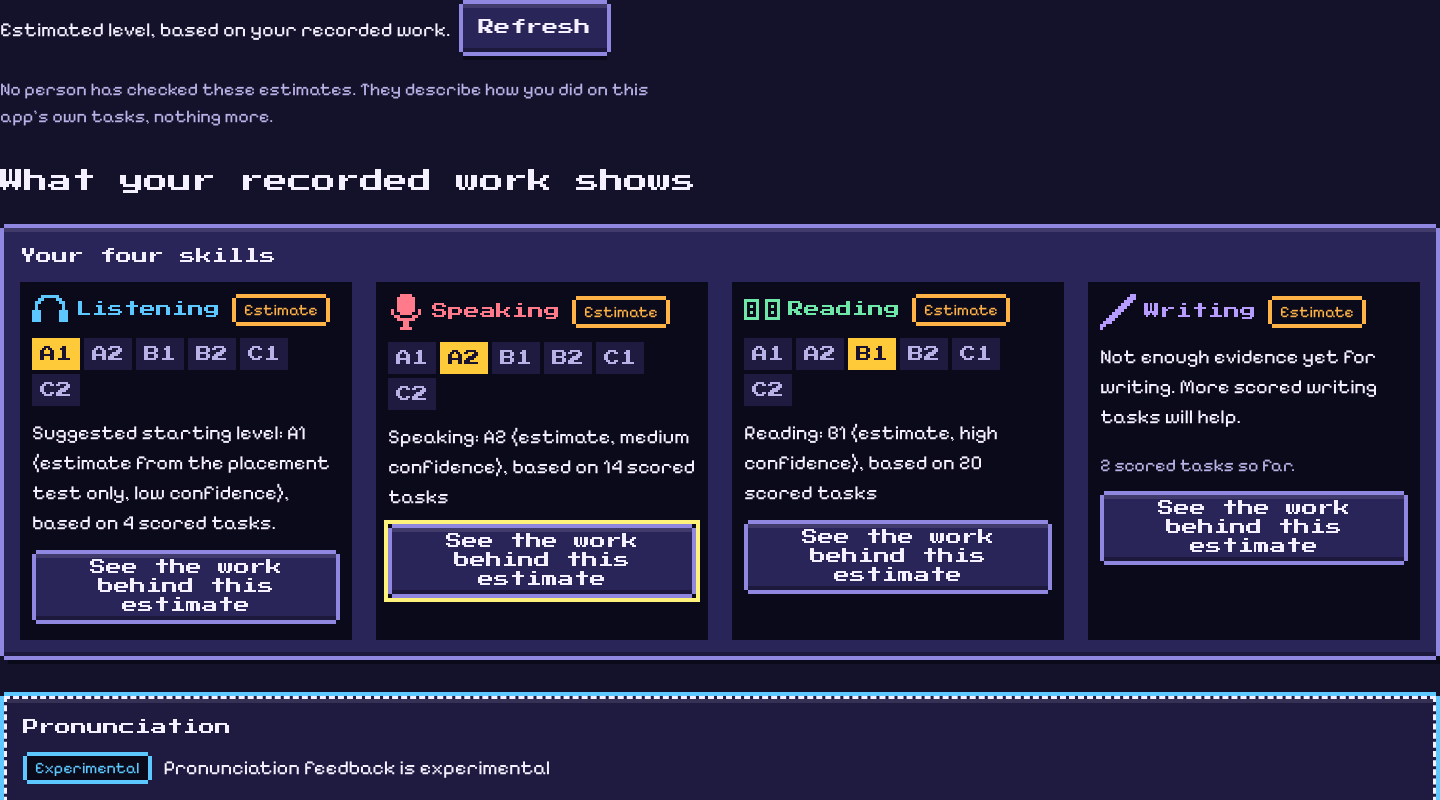
Test: drill-down from a skill to its evidence › opens from the keyboard, names the skill, and says the attempt list is not available
The width and height of the screenshot is (1440, 800).
Expected: the list named "Your four skills" is shown, x1=20 y1=282 x2=1420 y2=640
Press Enter
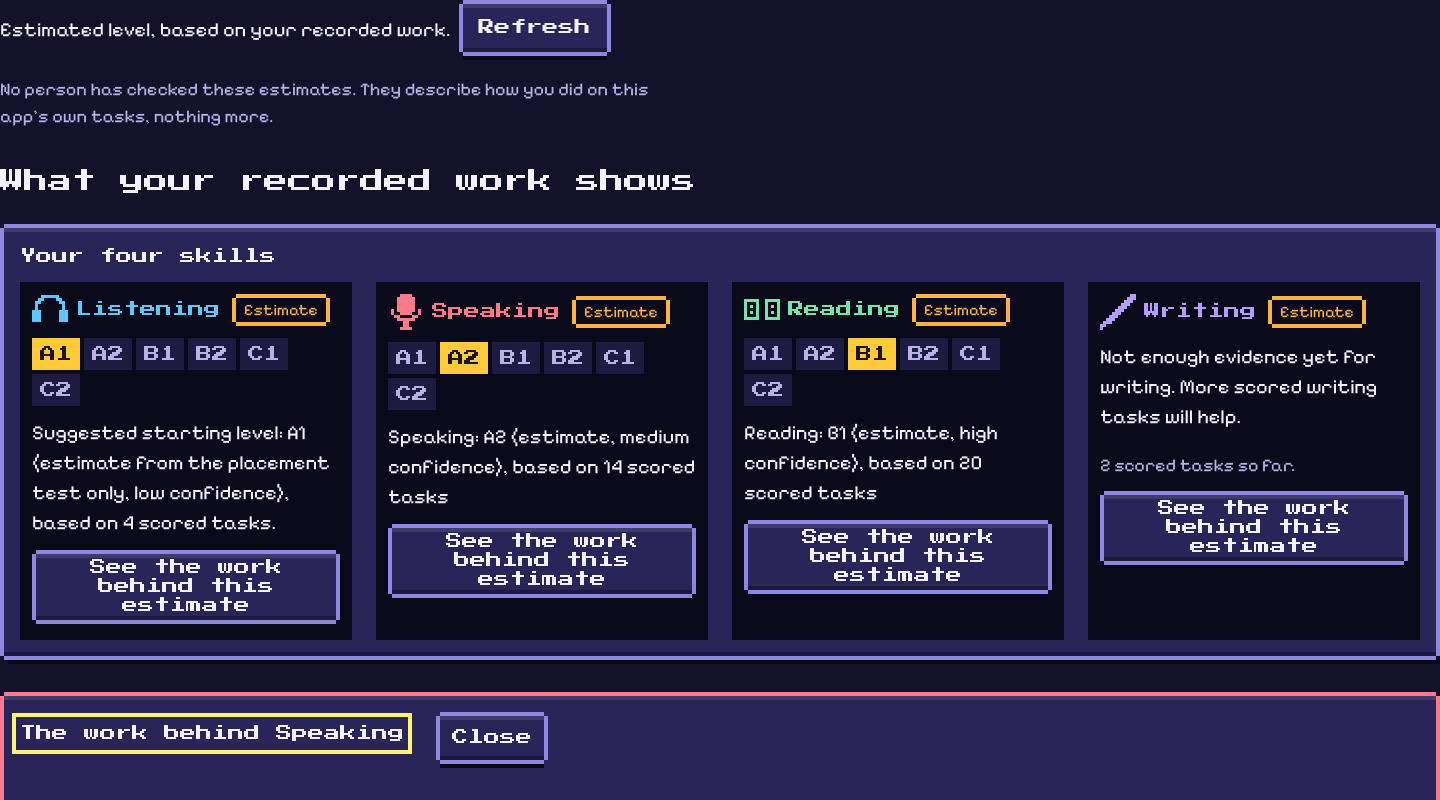
Click the button "Close". click: (492, 738)
box: x1=440 y1=716 x2=544 y2=760
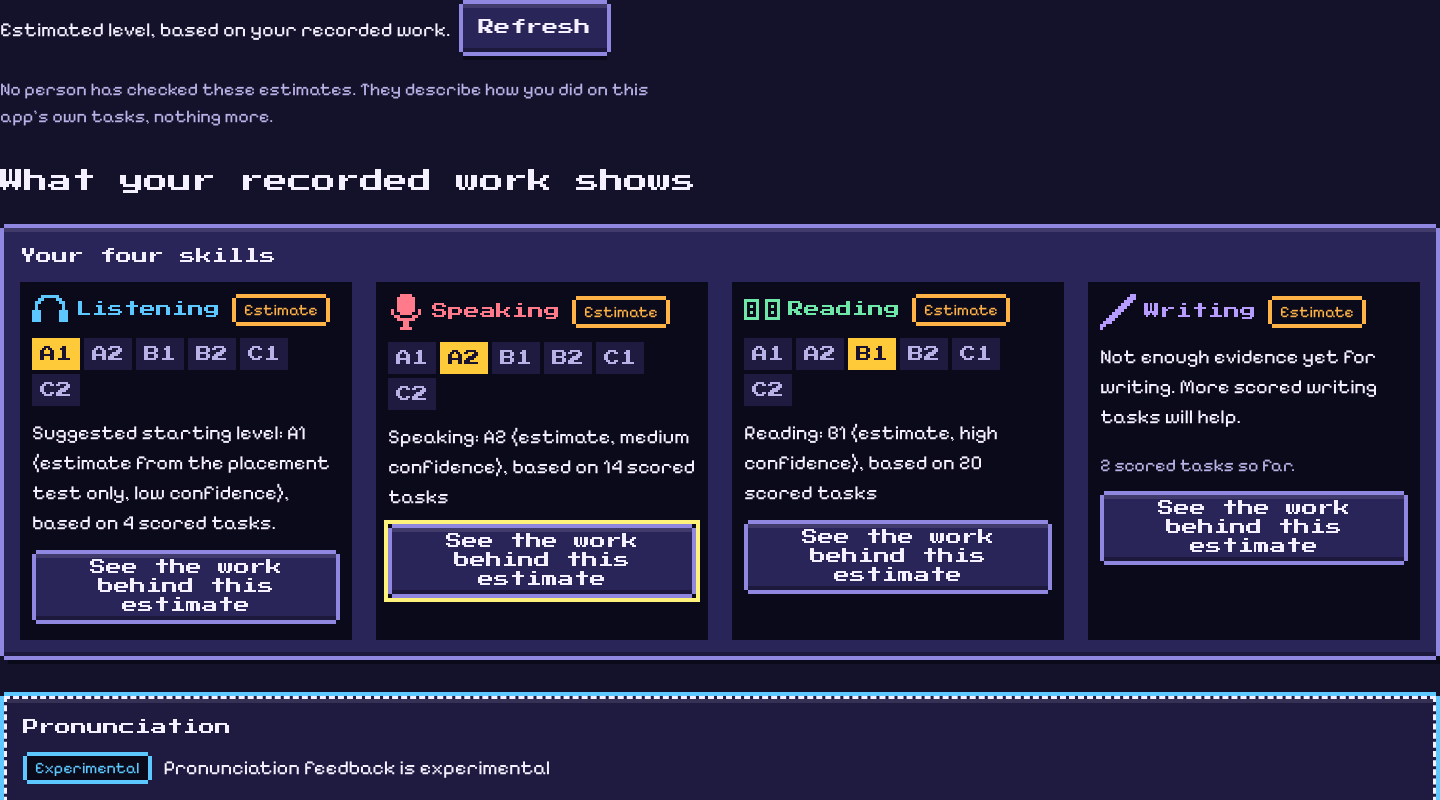
Expected: the heading "The work behind Speaking" is gone
